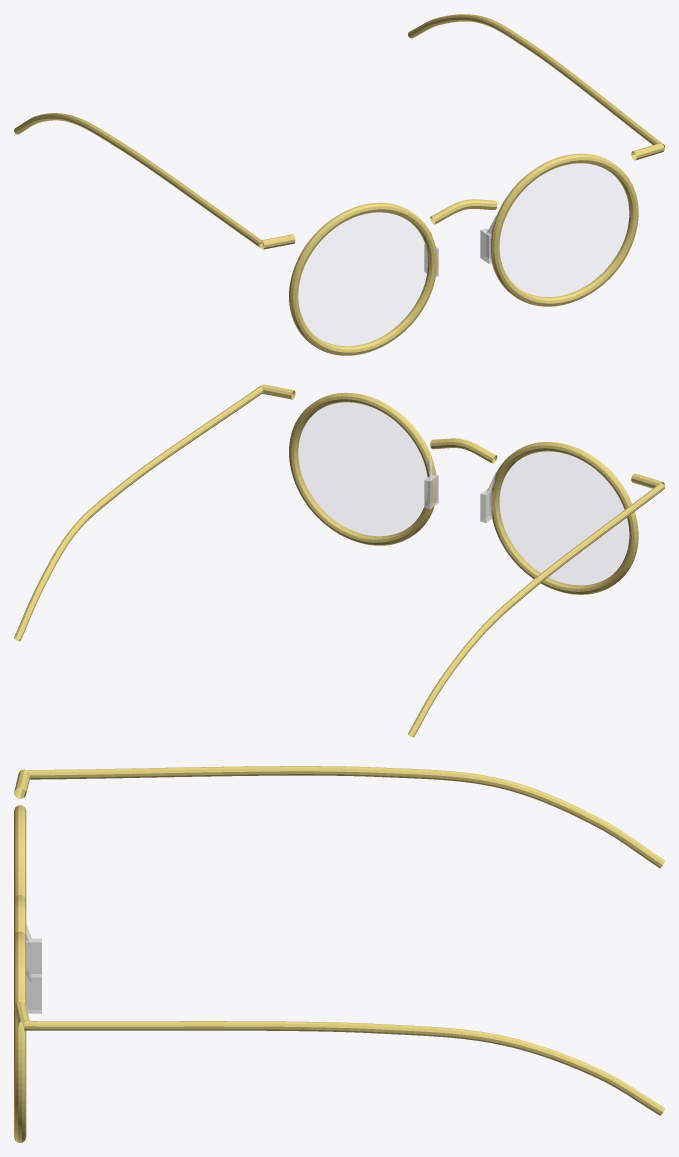
3 renders of one model, top to bottom at view 1: azimuth 30°, elevation 25°; view 2: azimuth 150°, elevation 25°; view 3: azimuth 270°, elevation 25°, orthographic. The views are drawn at different scales.
Visible parts, largest first — view 1: lens_R, lens_L, frame_front, temple_R, temple_L, nose_pads; view 2: lens_R, lens_L, frame_front, temple_R, temple_L, nose_pads; view 3: temple_L, temple_R, frame_front, nose_pads.
Boxes of the visible parts, left/top/right/bottom form: lens_R: left=500, top=164, right=628, bottom=296; lens_L: left=299, top=213, right=427, bottom=345; frame_front: left=260, top=143, right=664, bottom=355; temple_R: left=408, top=14, right=664, bottom=147; temple_L: left=14, top=113, right=264, bottom=248; nose_pads: left=424, top=216, right=497, bottom=276; lens_R: left=297, top=403, right=426, bottom=536; lens_L: left=498, top=452, right=628, bottom=585; frame_front: left=261, top=384, right=664, bottom=594; temple_R: left=14, top=385, right=263, bottom=641; temple_L: left=408, top=483, right=664, bottom=737; nose_pads: left=424, top=456, right=496, bottom=522; temple_L: left=27, top=766, right=664, bottom=868; temple_R: left=24, top=1021, right=664, bottom=1115; frame_front: left=14, top=769, right=29, bottom=1142; nose_pads: left=26, top=924, right=41, bottom=1013.
Size of the model in its own units: 140 by 47.66 by 148.
